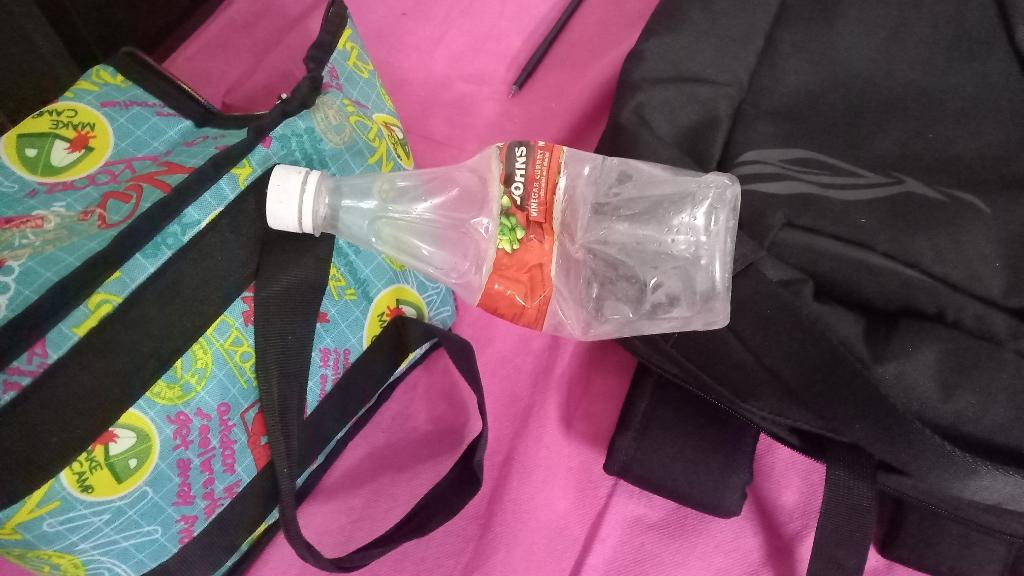garbage: (262, 127, 750, 348)
